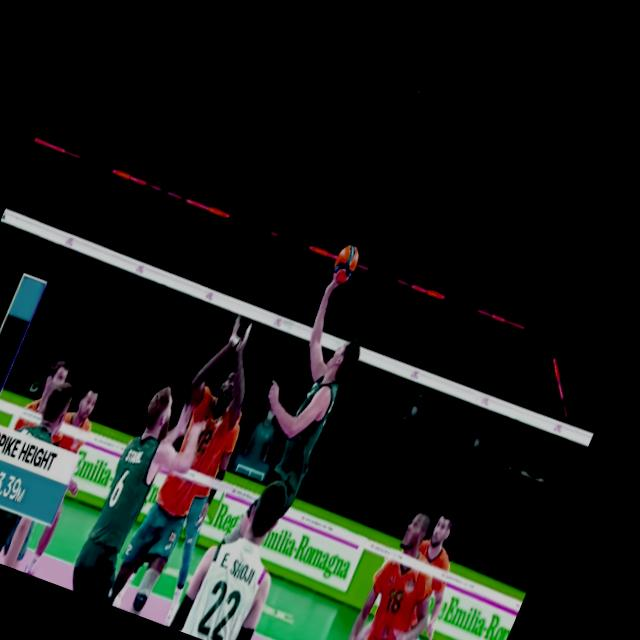player: (106, 303, 281, 621), (211, 266, 391, 571), (71, 377, 227, 613), (178, 460, 321, 640), (338, 501, 484, 640), (365, 500, 489, 640), (59, 378, 117, 453)
